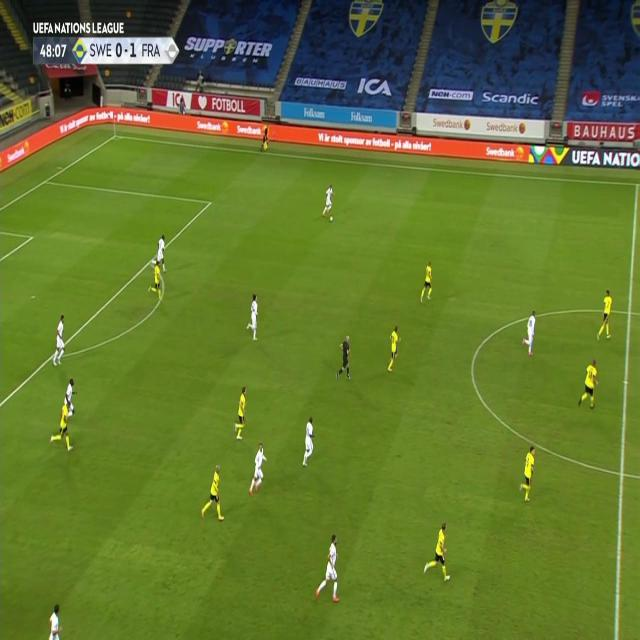ball: (328, 214, 334, 224)
player: (314, 534, 342, 604), (423, 522, 453, 584), (200, 463, 226, 524), (50, 401, 76, 455), (577, 357, 599, 410), (518, 444, 537, 504), (248, 442, 268, 495), (596, 287, 614, 341), (232, 386, 248, 442), (520, 308, 538, 356), (300, 414, 316, 468), (335, 333, 352, 382), (386, 323, 402, 372), (53, 312, 67, 367), (148, 258, 164, 300), (245, 292, 259, 340), (46, 602, 64, 639), (419, 259, 434, 301), (320, 182, 336, 220), (154, 233, 168, 271), (64, 377, 78, 415), (260, 124, 269, 151)
